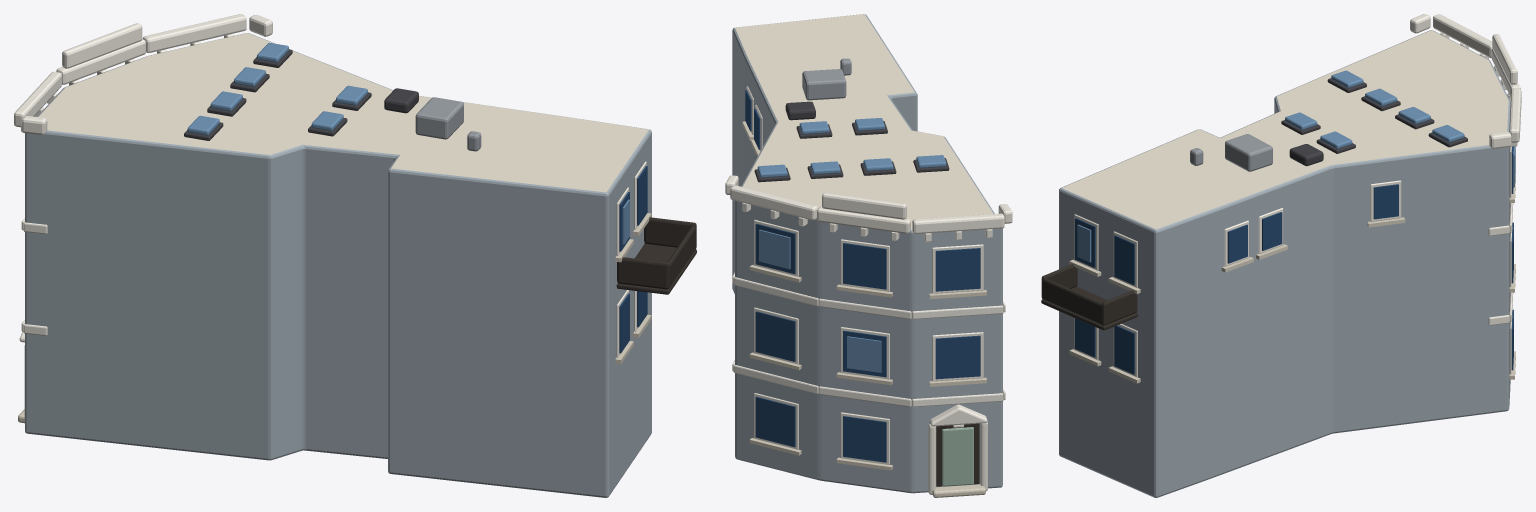
The model's file is 171-south-park.glb.
3 views of the same model, side by side, from view 1: azimuth 30°, elevation 25°; view 2: azimuth 150°, elevation 25°; view 3: azimuth 270°, elevation 25° (orthographic). The views are drawn at different scales.
Visible parts, largest first — view 1: body, cornice_10, mech, crown, deck_post-1, cornice_11, deck_post1, deck_slab, cornice_12, deck_rail; view 2: body, win_f12_2_fill, win_f12_1_fill, entry_door, win_f11_0_fill, win_f11_2_fill, win_f10_0_fill, win_f10_1_fill, cornice_12, crown, cornice_10, cornice_11 (+36 smaller); view 3: body, deck_rail, mech, cornice_12, win_t1_1_fill, win_t0_1_fill, deck_post1, win_re0_fill, deck_slab, win_ne0_fill, win_ne1_fill, win_t0_0_fill (+4 smaller).
Boxes of the visible parts, left/top/right/bottom form: body: left=25, top=33, right=651, bottom=497; cornice_10: left=142, top=14, right=246, bottom=52; mech: left=415, top=97, right=463, bottom=139; crown: left=62, top=23, right=142, bottom=68; deck_post-1: left=617, top=257, right=669, bottom=289; cornice_11: left=56, top=39, right=145, bottom=84; deck_post1: left=644, top=217, right=696, bottom=247; deck_slab: left=616, top=243, right=696, bottom=294; cornice_12: left=14, top=71, right=61, bottom=127; deck_rail: left=666, top=226, right=696, bottom=288; body: left=732, top=14, right=1002, bottom=493; win_f12_2_fill: left=935, top=248, right=980, bottom=291; win_f12_1_fill: left=935, top=335, right=980, bottom=379; entry_door: left=942, top=427, right=973, bottom=486; win_f11_0_fill: left=843, top=416, right=886, bottom=462; win_f11_2_fill: left=843, top=243, right=886, bottom=289; win_f10_0_fill: left=755, top=396, right=795, bottom=447; win_f10_1_fill: left=755, top=311, right=795, bottom=361; cornice_12: left=912, top=213, right=1004, bottom=234; crown: left=822, top=192, right=906, bottom=219; cornice_10: left=730, top=185, right=818, bottom=220; cornice_11: left=817, top=207, right=910, bottom=233; body: left=1059, top=30, right=1510, bottom=497; deck_rail: left=1041, top=278, right=1104, bottom=325; mech: left=1225, top=134, right=1272, bottom=171; cornice_12: left=1433, top=14, right=1492, bottom=57; win_t1_1_fill: left=1114, top=235, right=1134, bottom=284; win_t0_1_fill: left=1114, top=325, right=1134, bottom=374; deck_post1: left=1101, top=290, right=1137, bottom=325; win_re0_fill: left=1373, top=184, right=1398, bottom=219; deck_slab: left=1041, top=286, right=1137, bottom=330; win_ne0_fill: left=1227, top=224, right=1247, bottom=263; win_ne1_fill: left=1262, top=212, right=1282, bottom=250; win_t0_0_fill: left=1075, top=318, right=1095, bottom=357.
Bounding box in the file's own units: 19.26 × 12.6 × 18.5.
